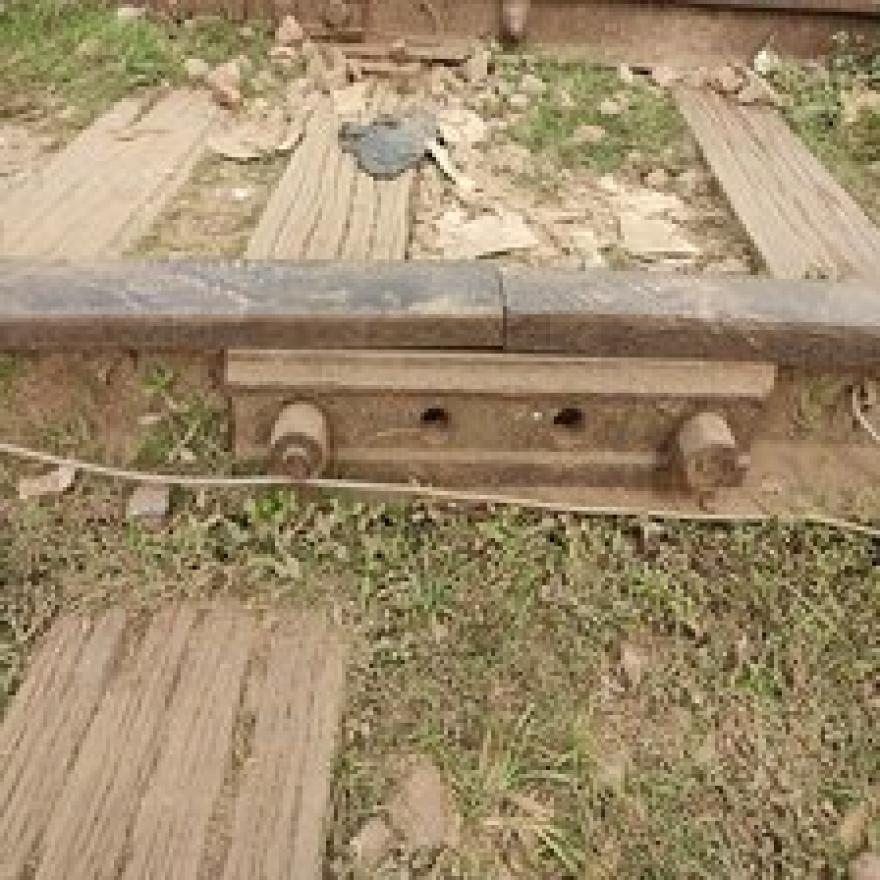railway-gap: (443, 236, 564, 366)
